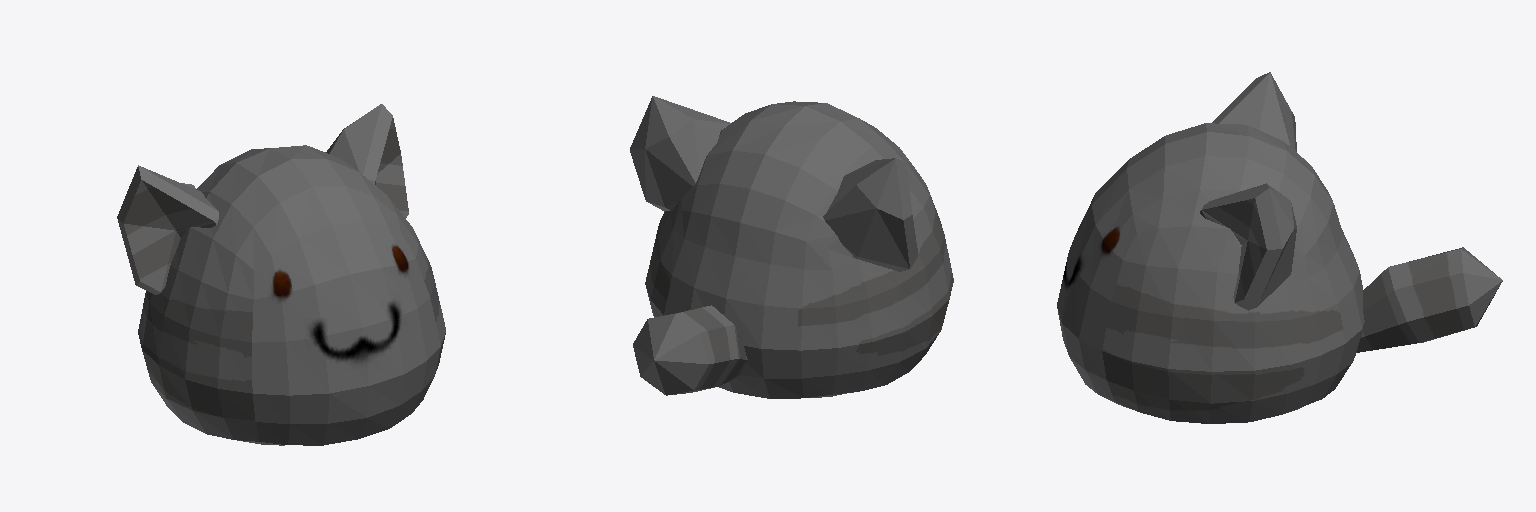
The picture shows the model from 3 angles: view 1: azimuth 30°, elevation 25°; view 2: azimuth 150°, elevation 25°; view 3: azimuth 270°, elevation 25°; orthographic projection.
Visible parts, largest first — view 1: tabby_slime_Mesh_0000; view 2: tabby_slime_Mesh_0000; view 3: tabby_slime_Mesh_0000.
Boxes of the visible parts, <box> form: tabby_slime_Mesh_0000: <box>117,104,445,445</box>; tabby_slime_Mesh_0000: <box>630,96,953,398</box>; tabby_slime_Mesh_0000: <box>1057,72,1502,423</box>.
Size of the model in its own units: 19.61 by 17.17 by 27.35.
3 materials, 3 textured.